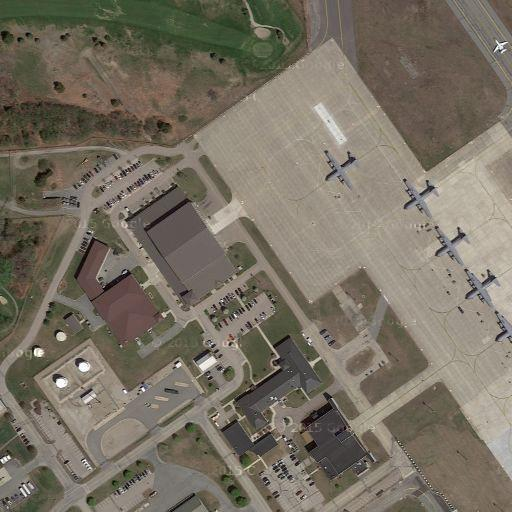C-130: (464, 263, 501, 310), (401, 174, 437, 221), (320, 146, 357, 191), (433, 221, 469, 265)
